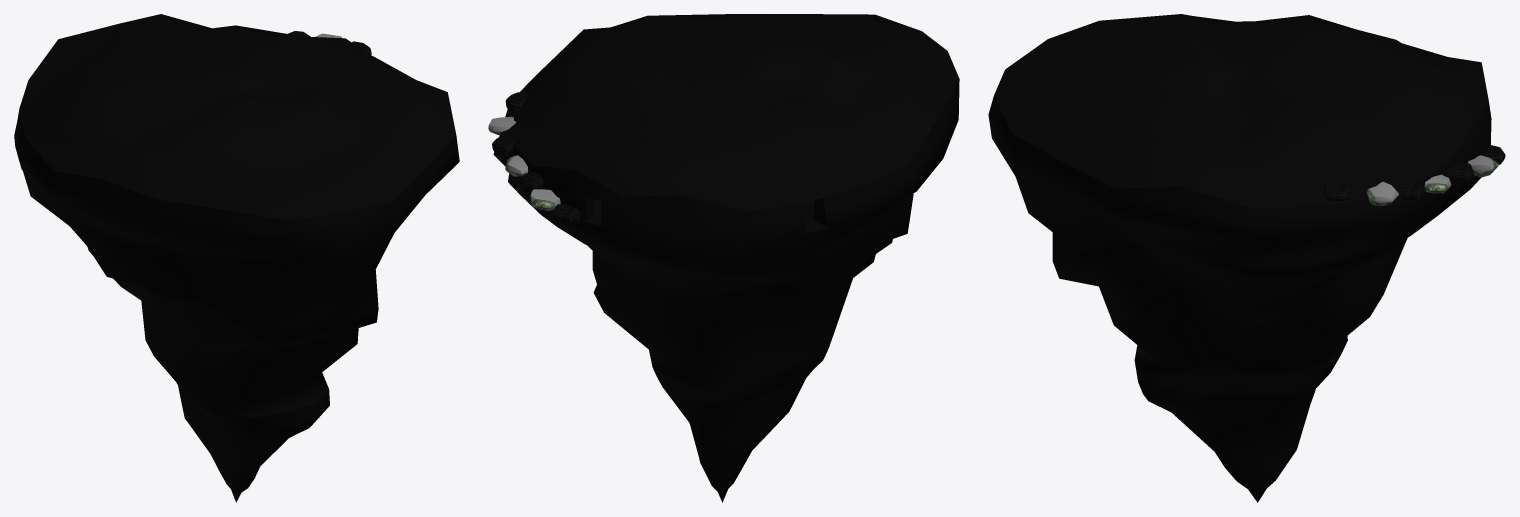
File: IslandWithStaircase.obj
3 views of the same model, side by side, from view 1: azimuth 30°, elevation 25°; view 2: azimuth 150°, elevation 25°; view 3: azimuth 270°, elevation 25° (orthographic).
Parts seen in each view (by area): view 1: IslandLowP1; view 2: IslandLowP1, rockwideround:rockwideround; view 3: IslandLowP1, rockwideround2.
Boxes of the visible parts, x1,y1,x2,y2 form: IslandLowP1: (14,14,459,502); IslandLowP1: (493,14,959,502); rockwideround:rockwideround: (530,189,560,210); IslandLowP1: (988,14,1491,502); rockwideround2: (1366,181,1398,206).
Size of the model in its own units: 139 by 150 by 161.
